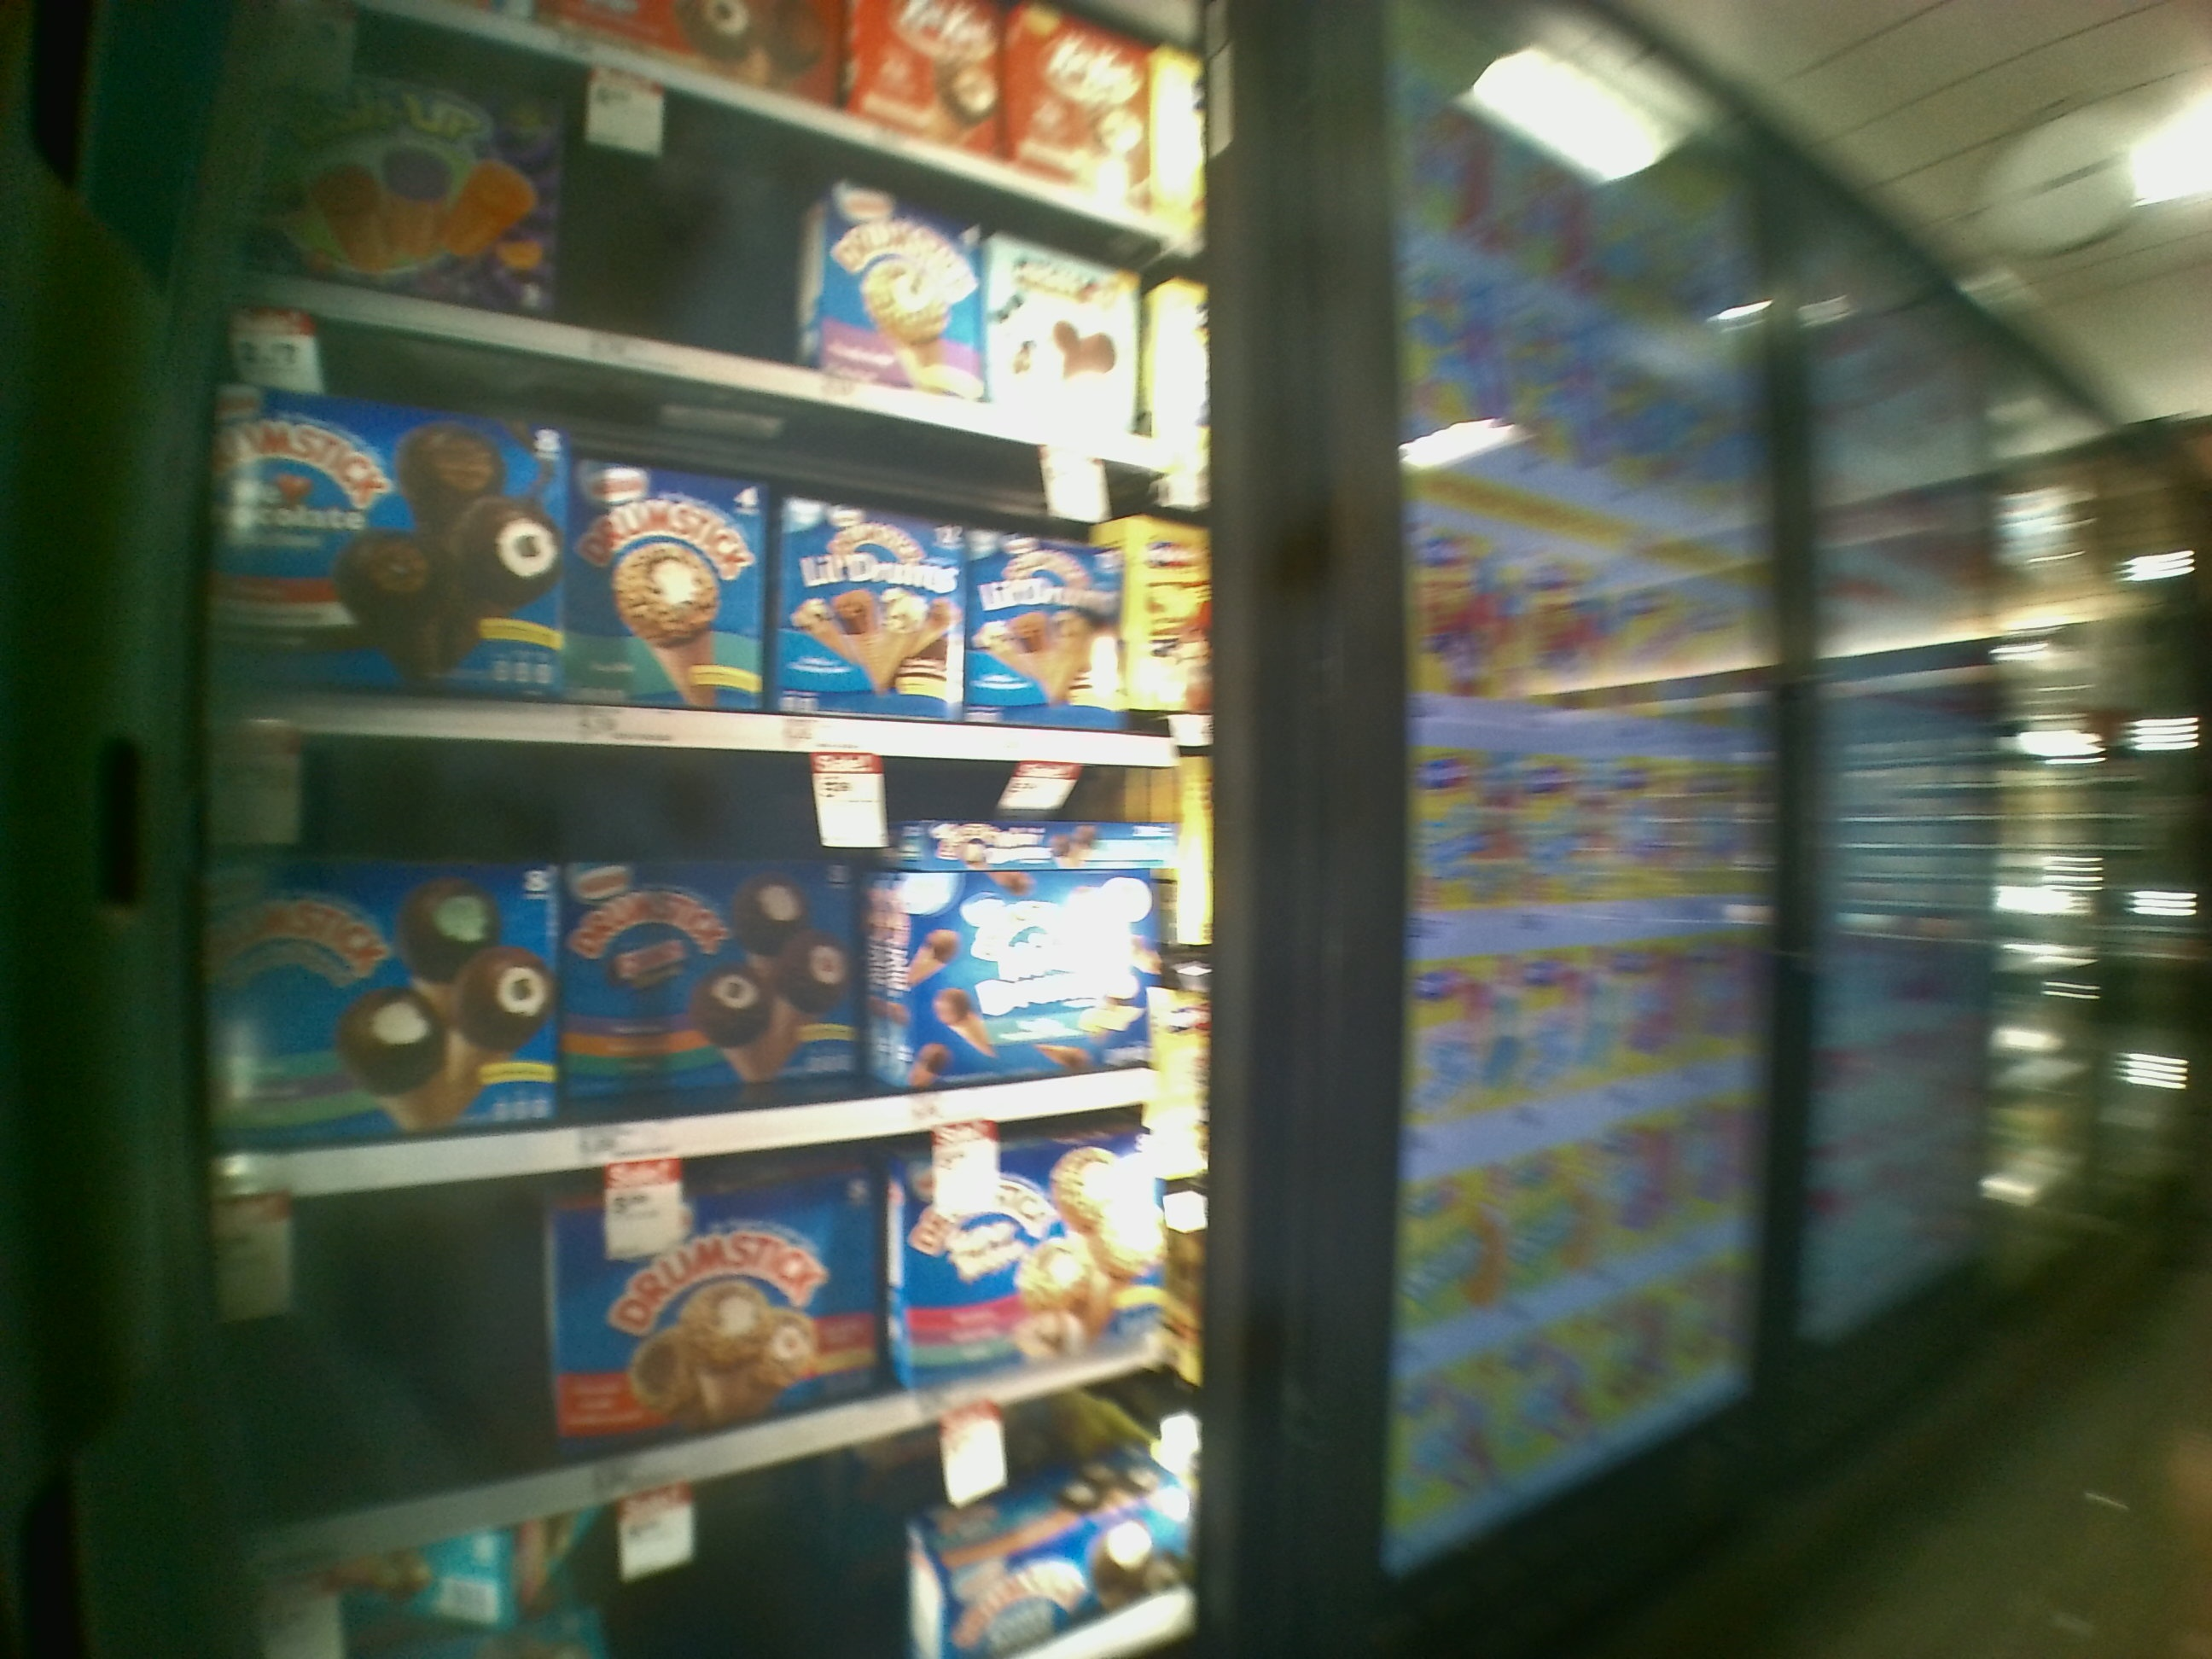shelf: (216, 291, 1230, 756), (225, 739, 1219, 1185)
